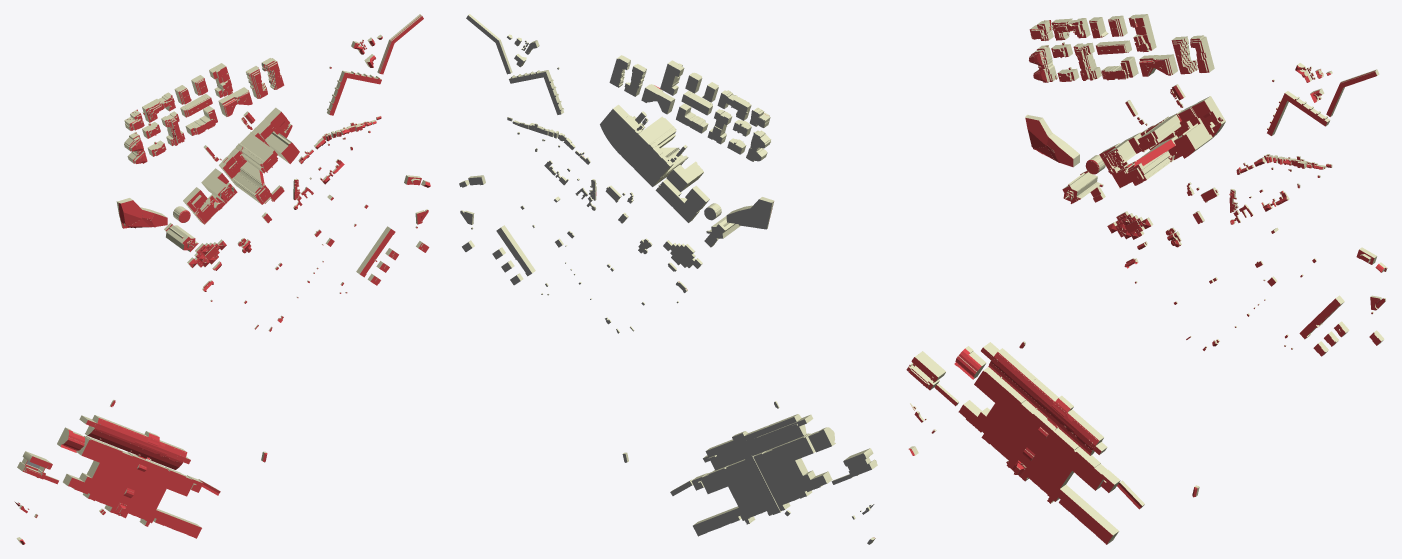
The picture shows the model from 3 angles, left to right: view 1: azimuth 30°, elevation 25°; view 2: azimuth 150°, elevation 25°; view 3: azimuth 330°, elevation 25°; orthographic projection. The views are drawn at different scales.
Parts seen in each view (by area): view 1: NL.IMBAG.Pand.0363100012185598-19, NL.IMBAG.Pand.0363100012247366-101, NL.IMBAG.Pand.0363100012242112-16, NL.IMBAG.Pand.0363100012237838-25, NL.IMBAG.Pand.0363100012112766-24, NL.IMBAG.Pand.0363100012250610-98, NL.IMBAG.Pand.0363100012245546-35, NL.IMBAG.Pand.0363100012119827-28, NL.IMBAG.Pand.0363100012178504-7, NL.IMBAG.Pand.0363100012098377-61, NL.IMBAG.Pand.0363100012240311-17, NL.IMBAG.Pand.0363100012071204-26 (+3 smaller); view 2: NL.IMBAG.Pand.0363100012185598-19, NL.IMBAG.Pand.0363100012247366-101, NL.IMBAG.Pand.0363100012242112-16, NL.IMBAG.Pand.0363100012112766-24, NL.IMBAG.Pand.0363100012240311-17, NL.IMBAG.Pand.0363100012237838-25, NL.IMBAG.Pand.0363100012245546-35, NL.IMBAG.Pand.0363100012119827-28, NL.IMBAG.Pand.0363100012178504-7, NL.IMBAG.Pand.0363100012098377-61, NL.IMBAG.Pand.0363100012250610-98, NL.IMBAG.Pand.0363100012252987-110 (+3 smaller); view 3: NL.IMBAG.Pand.0363100012185598-19, NL.IMBAG.Pand.0363100012242112-16, NL.IMBAG.Pand.0363100012247366-101, NL.IMBAG.Pand.0363100012237838-25, NL.IMBAG.Pand.0363100012250610-98, NL.IMBAG.Pand.0363100012071204-26, NL.IMBAG.Pand.0363100012178504-7, NL.IMBAG.Pand.0363100012119827-28, NL.IMBAG.Pand.0363100012240311-17, NL.IMBAG.Pand.0363100012249044-97, NL.IMBAG.Pand.0363100012252987-111, NL.IMBAG.Pand.0363100012252987-110 (+4 smaller).
Part boxes in pixels (x1,y1,x2,y2): NL.IMBAG.Pand.0363100012185598-19: (63,435,203,538); NL.IMBAG.Pand.0363100012247366-101: (219,130,277,204); NL.IMBAG.Pand.0363100012242112-16: (85,415,187,469); NL.IMBAG.Pand.0363100012237838-25: (116,198,167,228); NL.IMBAG.Pand.0363100012112766-24: (183,182,237,224); NL.IMBAG.Pand.0363100012250610-98: (254,119,299,163); NL.IMBAG.Pand.0363100012245546-35: (201,168,235,203); NL.IMBAG.Pand.0363100012119827-28: (187,239,226,267); NL.IMBAG.Pand.0363100012178504-7: (17,451,52,479); NL.IMBAG.Pand.0363100012098377-61: (356,226,395,277); NL.IMBAG.Pand.0363100012240311-17: (115,431,167,515); NL.IMBAG.Pand.0363100012071204-26: (164,223,198,251); NL.IMBAG.Pand.0363100012185598-19: (691,433,832,536); NL.IMBAG.Pand.0363100012247366-101: (617,116,688,186); NL.IMBAG.Pand.0363100012242112-16: (705,414,806,470); NL.IMBAG.Pand.0363100012112766-24: (655,179,709,222); NL.IMBAG.Pand.0363100012240311-17: (725,431,781,514); NL.IMBAG.Pand.0363100012237838-25: (726,197,774,229); NL.IMBAG.Pand.0363100012245546-35: (666,161,703,192); NL.IMBAG.Pand.0363100012119827-28: (663,240,702,268); NL.IMBAG.Pand.0363100012178504-7: (843,448,877,477); NL.IMBAG.Pand.0363100012098377-61: (496,225,535,276); NL.IMBAG.Pand.0363100012250610-98: (607,115,644,151); NL.IMBAG.Pand.0363100012252987-110: (641,84,675,114); NL.IMBAG.Pand.0363100012185598-19: (958,367,1120,544); NL.IMBAG.Pand.0363100012242112-16: (988,348,1104,455); NL.IMBAG.Pand.0363100012247366-101: (1124,110,1189,185); NL.IMBAG.Pand.0363100012237838-25: (1025,114,1079,167); NL.IMBAG.Pand.0363100012250610-98: (1174,104,1216,158); NL.IMBAG.Pand.0363100012071204-26: (1062,170,1105,203); NL.IMBAG.Pand.0363100012178504-7: (906,351,945,390); NL.IMBAG.Pand.0363100012119827-28: (1107,211,1153,239); NL.IMBAG.Pand.0363100012240311-17: (1013,395,1074,476); NL.IMBAG.Pand.0363100012249044-97: (1192,96,1225,136); NL.IMBAG.Pand.0363100012252987-111: (1128,14,1156,52); NL.IMBAG.Pand.0363100012252987-110: (1139,54,1177,76).
Bounding box in the file's own units: 1009 × 1081 × 125.
